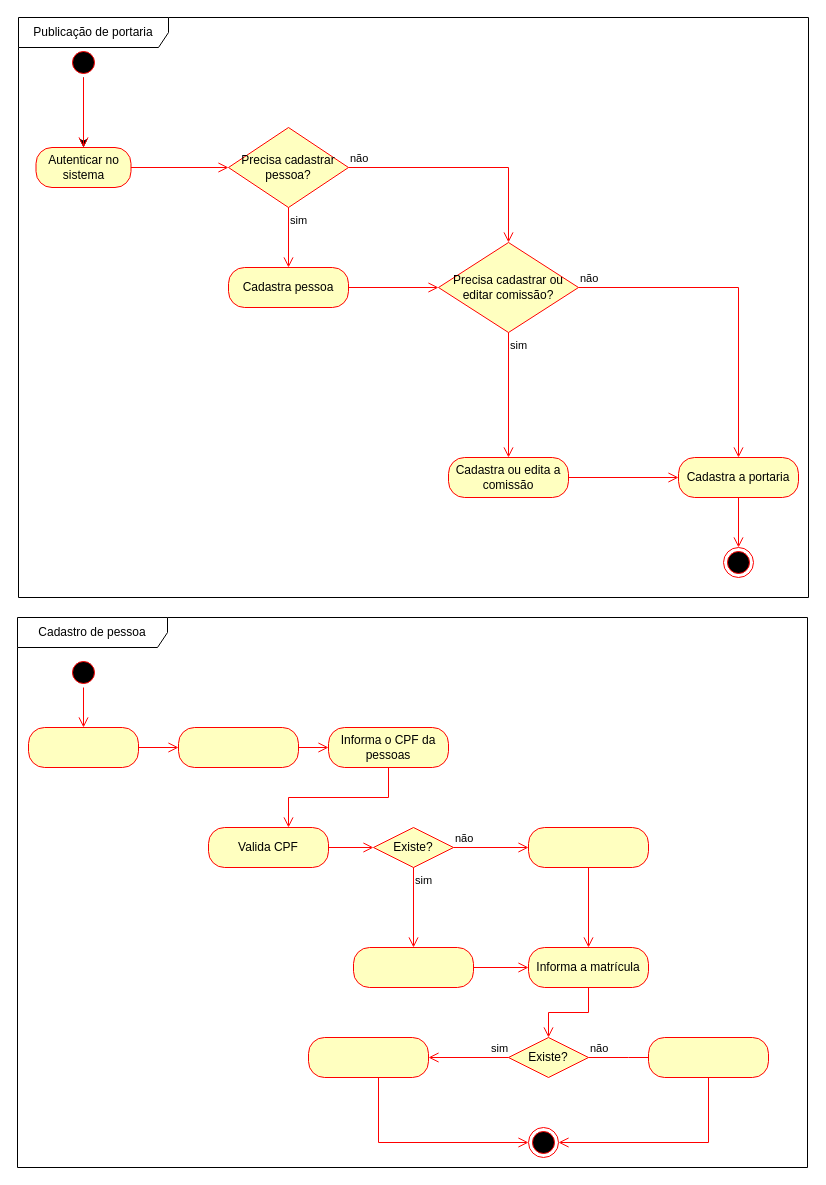
Image size: 826x1185. Some labels were removed from this diagram. The centre of each missing label's shape, as x and y in pixels:
Abre cadastro de pessoas: the point at 238,747
Autentica no sistema: the point at 83,747
Busca os dados pessoais: the point at 413,967
Cadastra dados funcionais: the point at 708,1057
Cadastra dados pessoais: the point at 588,847
Informa que o cadastro já existe: the point at 368,1057
